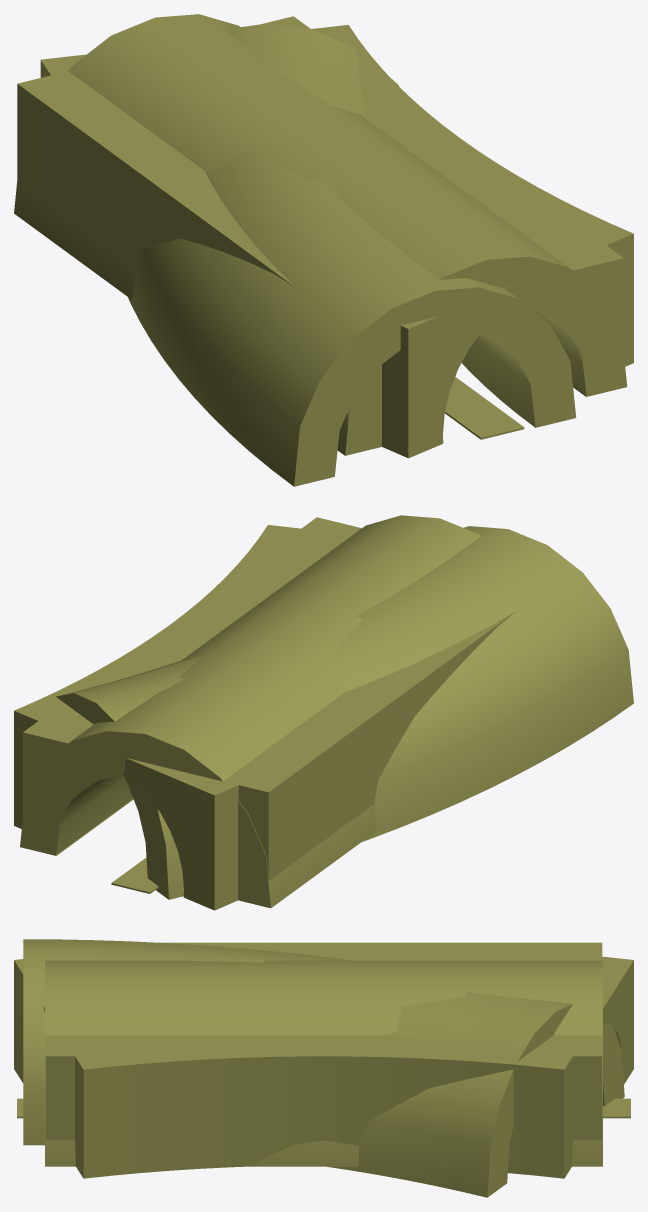
File: Tunnels and Bridge Models.fbx
3 renders of one model, top to bottom at view 1: azimuth 30°, elevation 25°; view 2: azimuth 150°, elevation 25°; view 3: azimuth 270°, elevation 25°, orthographic. The views are drawn at different scales.
Parts seen in each view (by area): view 1: Tunnels_Curve, Tunnels_straight01, Tunnels_straight, Tunnels_curve, Bridge_Plane; view 2: Tunnels_Curve, Tunnels_straight01, Tunnels_straight, Tunnels_curve, Bridge_Plane; view 3: Tunnels_curve, Tunnels_straight01, Tunnels_Curve, Tunnels_straight, Bridge_Plane.
Part boxes in pixels (box(x1,y1,x2,y2)): Tunnels_Curve: box(128, 23, 576, 486); Tunnels_straight01: box(14, 14, 627, 455); Tunnels_straight: box(17, 16, 623, 424); Tunnels_curve: box(40, 25, 633, 458); Bridge_Plane: box(445, 377, 524, 439); Tunnels_Curve: box(56, 526, 633, 899); Tunnels_straight01: box(20, 515, 481, 908); Tunnels_straight: box(23, 517, 515, 880); Tunnels_curve: box(14, 525, 478, 910); Bridge_Plane: box(111, 857, 158, 893); Tunnels_curve: box(14, 942, 633, 1178); Tunnels_straight01: box(45, 960, 602, 1166); Tunnels_Curve: box(23, 939, 624, 1197); Tunnels_straight: box(45, 942, 602, 1140); Bridge_Plane: box(17, 1098, 630, 1118).
Size of the model in its own units: 2455 by 958 by 3816.
